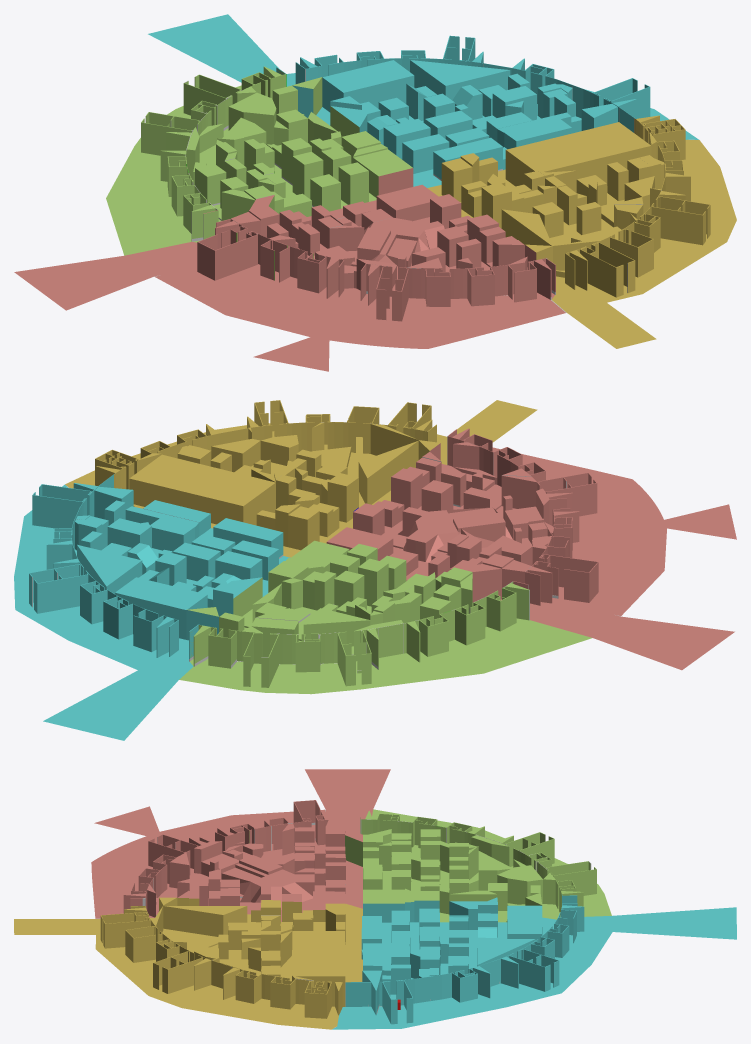
File: portmessa.dae
3 views of the same model, one above another, from view 1: azimuth 30°, elevation 25°; view 2: azimuth 150°, elevation 25°; view 3: azimuth 270°, elevation 25° (orthographic). The views are drawn at different scales.
Parts seen in each view (by area): view 1: Curve_007; view 2: Curve_007; view 3: Curve_007.
Boxes of the visible parts, x1,y1,x2,y2 form: Curve_007: [14, 14, 736, 371]; Curve_007: [14, 400, 736, 740]; Curve_007: [14, 769, 736, 1029].
Size of the model in its own units: 158 by 186 by 8.43.
